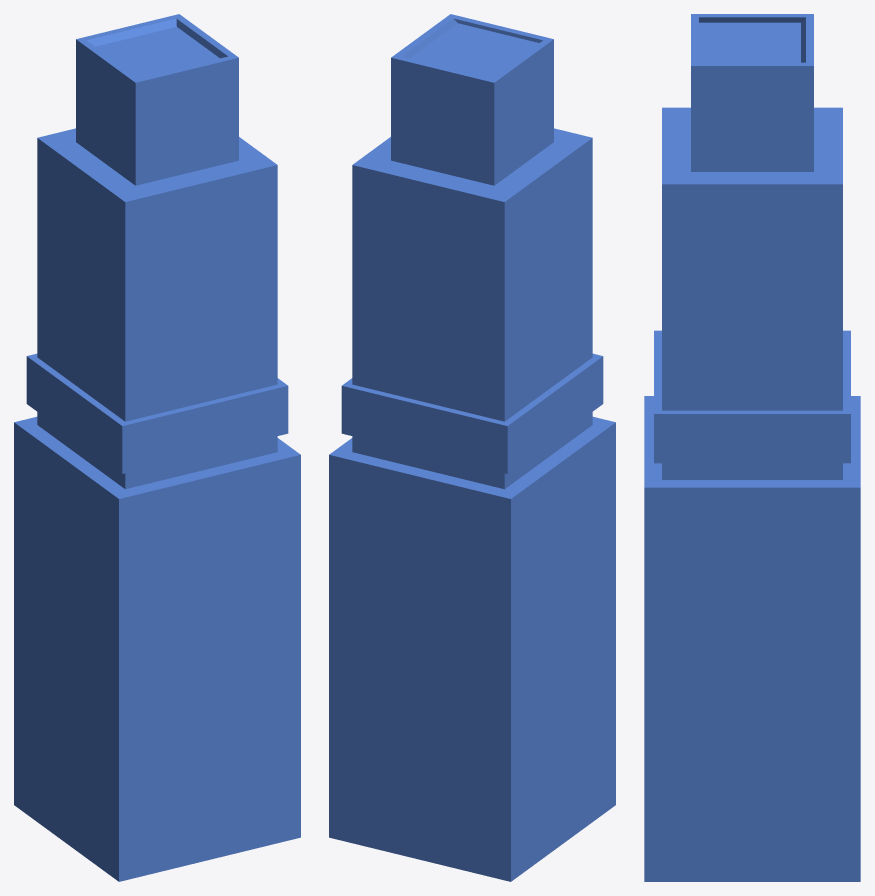
The model's file is Building4_blue.fbx.
The picture shows the model from 3 angles, left to right: view 1: azimuth 30°, elevation 25°; view 2: azimuth 150°, elevation 25°; view 3: azimuth 270°, elevation 25°; orthographic projection. The views are drawn at different scales.
Parts seen in each view (by area): view 1: Building 4; view 2: Building 4; view 3: Building 4.
Part boxes in pixels (left/top/right/bottom): Building 4: left=14, top=14, right=300, bottom=881; Building 4: left=329, top=14, right=615, bottom=881; Building 4: left=644, top=14, right=860, bottom=881.
Bounding box in the file's own units: 1195 × 4853 × 1195.
1 material, 1 textured.
